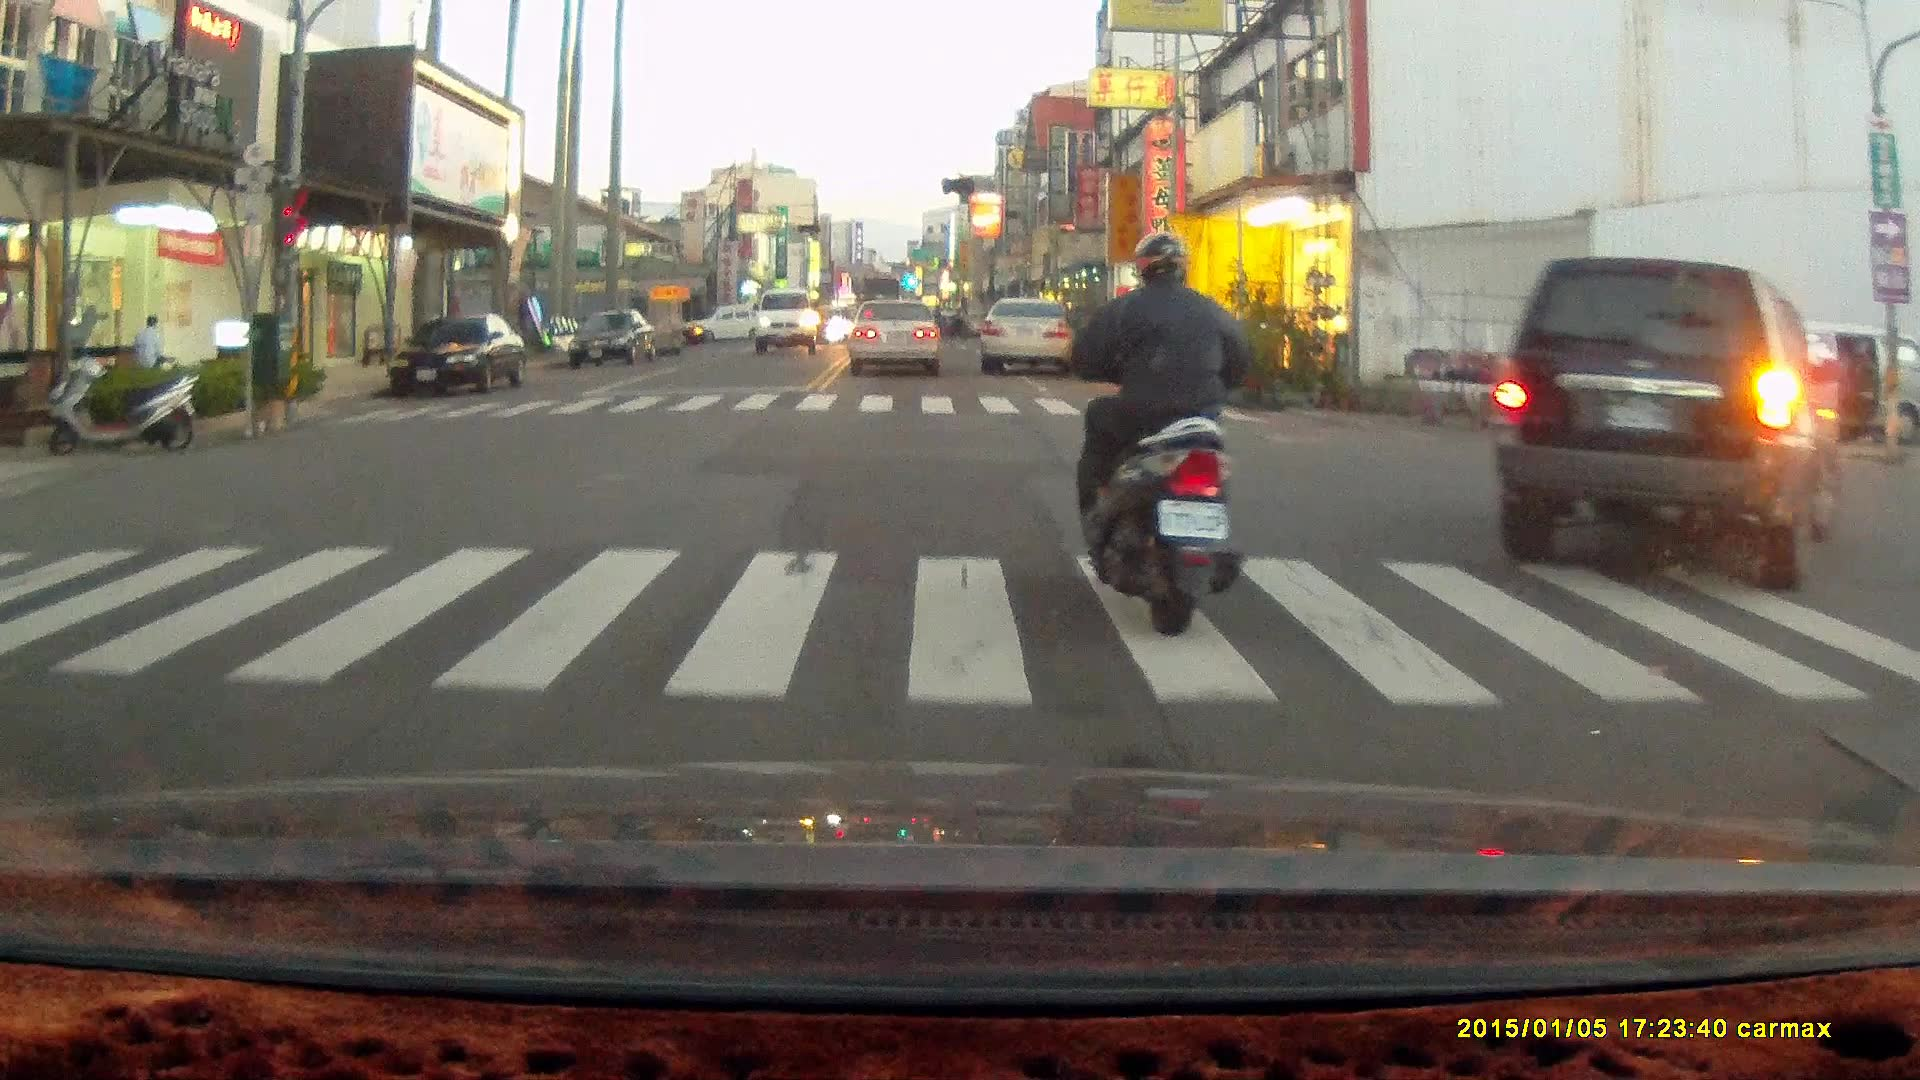pedestrian: (131, 311, 168, 380), (1852, 344, 1877, 435)
rider: (1063, 229, 1240, 632)
vehicle: (1490, 261, 1832, 589), (1737, 320, 1920, 447), (391, 312, 524, 405), (977, 296, 1083, 377), (847, 298, 942, 373), (566, 307, 657, 368), (756, 287, 821, 355)
